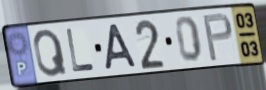0: (174, 14, 204, 66)
2: (134, 16, 167, 71)
A: (103, 22, 139, 72)
L: (64, 27, 97, 74)
P: (201, 11, 234, 64)
Q: (32, 27, 70, 79)
